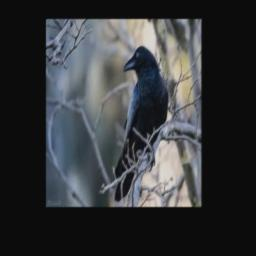Crow: (113, 45, 169, 202)
